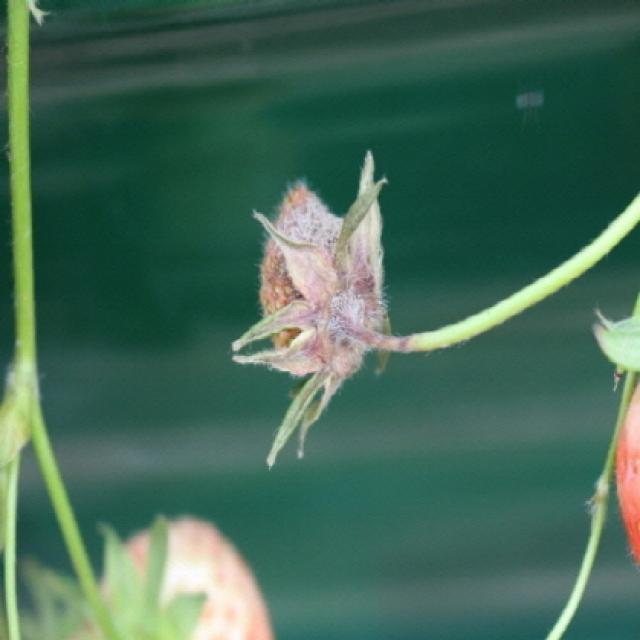Gray Mold: (231, 149, 414, 468)
